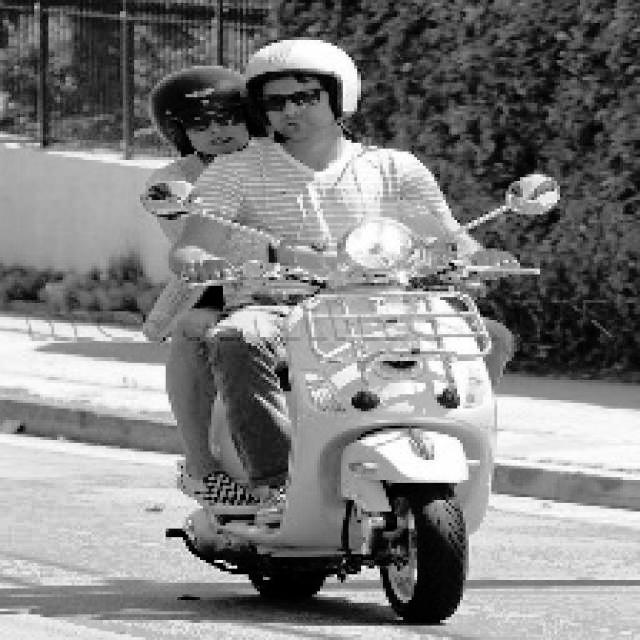Bike: (254, 237, 520, 619)
